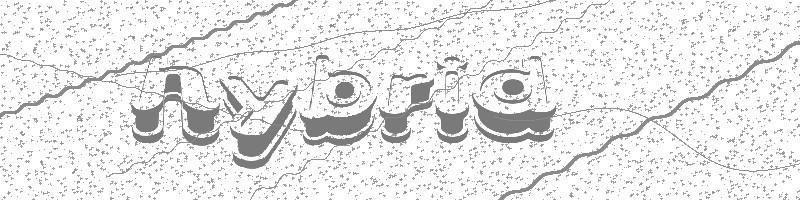b: (300, 43, 379, 158)
d: (467, 57, 562, 151)
i: (435, 45, 471, 151)
n: (128, 57, 221, 145)
r: (378, 68, 434, 155)
y: (217, 72, 301, 171)
